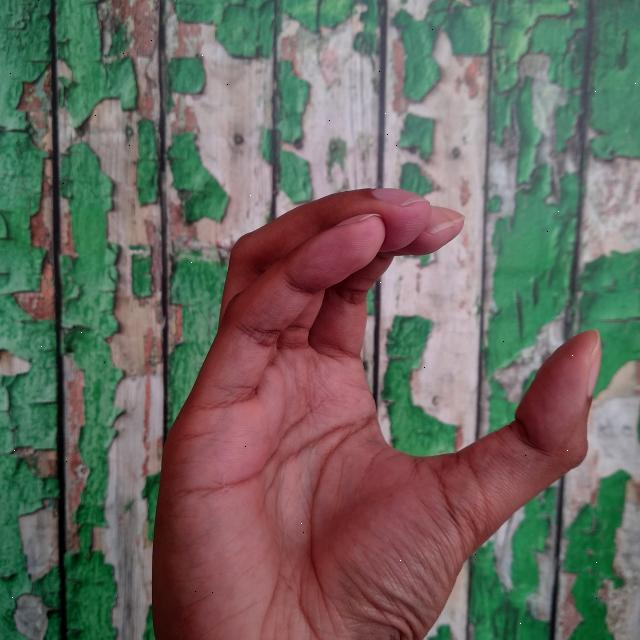C: (148, 181, 606, 640), (152, 183, 604, 640), (152, 186, 604, 640)
